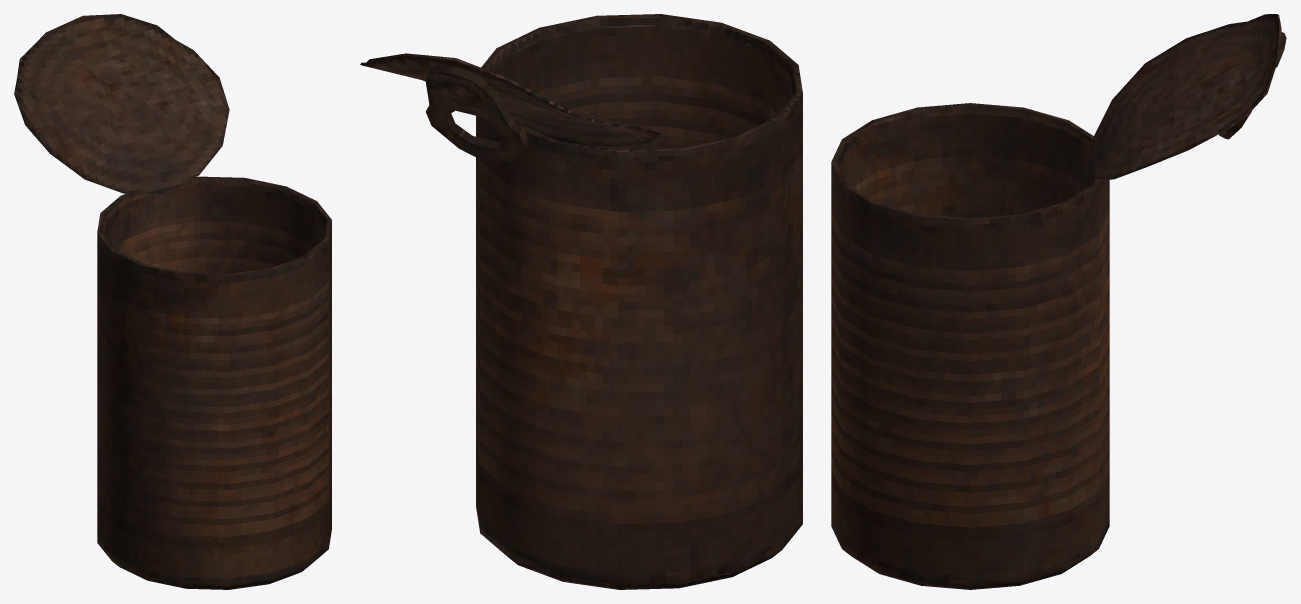
Rendered from tin_can_mp_1_rusty.glb.
3 renders of one model, left to right at view 1: azimuth 30°, elevation 25°; view 2: azimuth 150°, elevation 25°; view 3: azimuth 270°, elevation 25°, orthographic. The views are drawn at different scales.
Parts seen in each view (by area): view 1: tin_can_mp_1_rusty; view 2: tin_can_mp_1_rusty; view 3: tin_can_mp_1_rusty.
Boxes of the visible parts, x1=… form: tin_can_mp_1_rusty: x1=14, y1=14, x2=331, y2=589; tin_can_mp_1_rusty: x1=360, y1=14, x2=802, y2=589; tin_can_mp_1_rusty: x1=831, y1=14, x2=1286, y2=589.
Size of the model in its own units: 0.112 by 0.2256 by 0.1833.
Materials: 1 (1 with a texture image).
